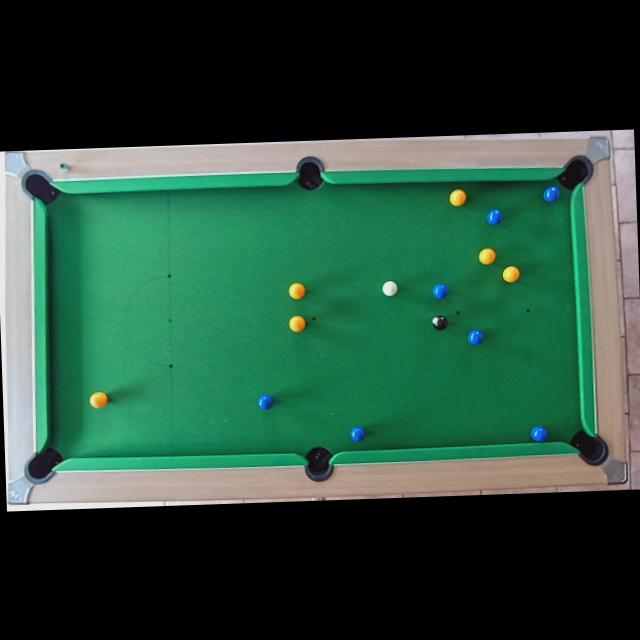Ball: (89, 391, 108, 409), (288, 282, 306, 300), (288, 315, 306, 333), (449, 188, 467, 206), (478, 247, 496, 265), (502, 264, 520, 282), (542, 185, 560, 203), (529, 424, 547, 442), (380, 280, 398, 297), (486, 210, 503, 227), (466, 330, 483, 346), (431, 315, 447, 331), (257, 394, 273, 410), (349, 426, 365, 442), (432, 284, 446, 300)
